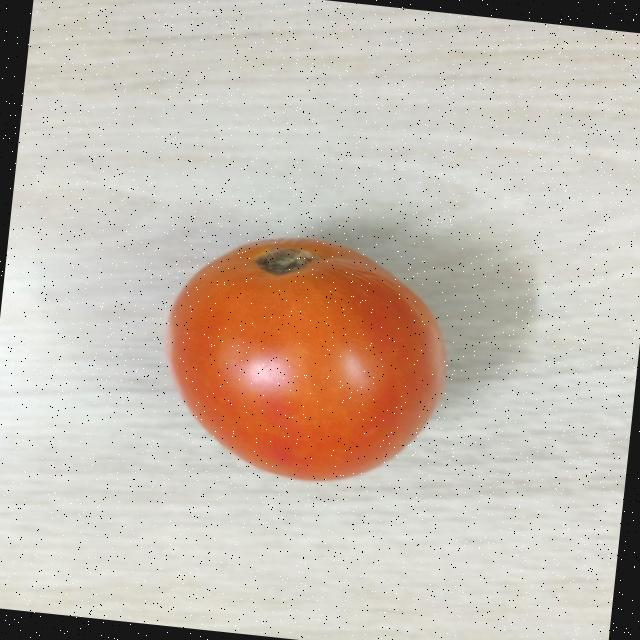Tomato: (148, 218, 463, 499)
